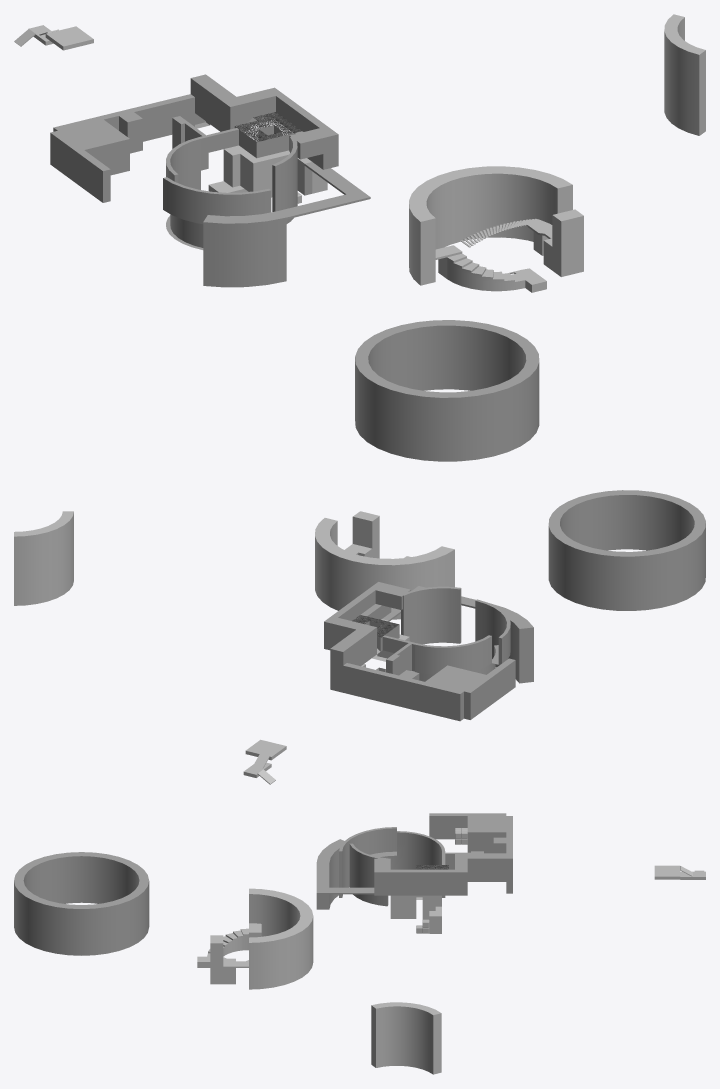
File: theEdge.fbx
3 renders of one model, top to bottom at view 1: azimuth 30°, elevation 25°; view 2: azimuth 150°, elevation 25°; view 3: azimuth 270°, elevation 25°, orthographic. The views are drawn at different scales.
Parts seen in each view (by area): view 1: pPipe8, elevatorTop3, pPipe1, pPipe9, pPipe3, pCube35, pPipe2, pPipe5, pCube59, pCube57, pCube58; view 2: pPipe8, elevatorTop3, pPipe1, pPipe3, pPipe5, pPipe9, pCube35, pCube59; view 3: pPipe8, elevatorTop3, pPipe1, pPipe3, pPipe9, pPipe5, pCube35, elevatorBottom, pCube59, pPipe2, pCube57.
Boxes of the visible parts, <box> form: pPipe8: <box>355,320,539,461</box>; elevatorTop3: <box>50,74,338,249</box>; pPipe1: <box>409,166,572,285</box>; pPipe9: <box>203,145,327,287</box>; pPipe3: <box>664,14,705,135</box>; pCube35: <box>552,209,583,276</box>; pPipe2: <box>447,253,525,291</box>; pPipe5: <box>272,136,297,223</box>; pCube59: <box>14,25,93,50</box>; pCube57: <box>304,162,370,202</box>; pCube58: <box>278,194,355,219</box>; pPipe8: <box>548,490,705,610</box>; elevatorTop3: <box>324,582,515,721</box>; pPipe1: <box>315,518,454,619</box>; pPipe3: <box>14,511,73,605</box>; pPipe5: <box>401,586,461,644</box>; pPipe9: <box>360,603,533,683</box>; pCube35: <box>352,511,379,558</box>; pCube59: <box>243,739,286,784</box>; pPipe8: <box>14,852,149,955</box>; elevatorTop3: <box>339,813,512,897</box>; pPipe1: <box>249,888,313,989</box>; pPipe3: <box>371,1002,441,1074</box>; pPipe9: <box>316,839,429,918</box>; pPipe5: <box>349,843,388,906</box>; pCube35: <box>210,935,223,984</box>; elevatorBottom: <box>422,895,441,933</box>; pCube59: <box>654,865,705,879</box>; pPipe2: <box>207,928,248,956</box>; pCube57: <box>316,887,374,894</box>.
Bounding box in the file's own units: 154 × 30 × 215.
3 materials, 1 textured.
